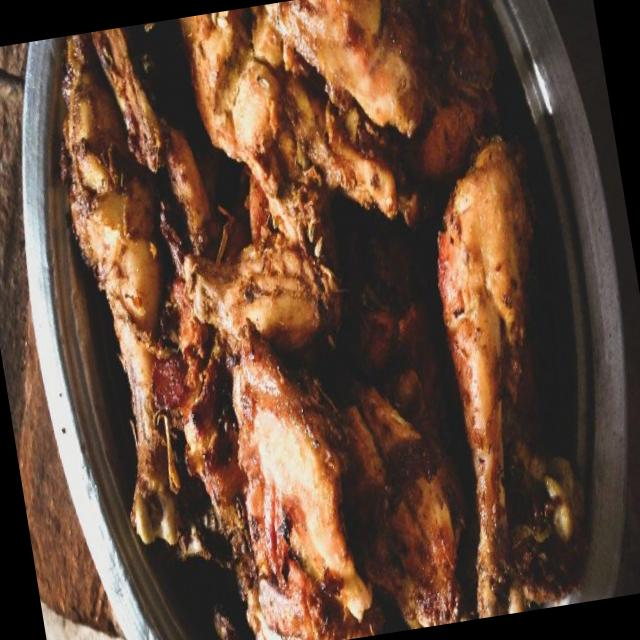chicken: (66, 2, 591, 640)
